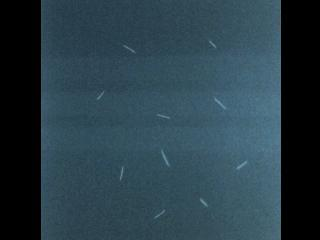scratch: (114, 33, 143, 64), (155, 144, 177, 172), (231, 152, 252, 177), (151, 106, 175, 127), (211, 93, 230, 116), (91, 86, 111, 107), (204, 36, 225, 55), (149, 206, 170, 224), (194, 194, 212, 213), (115, 165, 130, 183)
